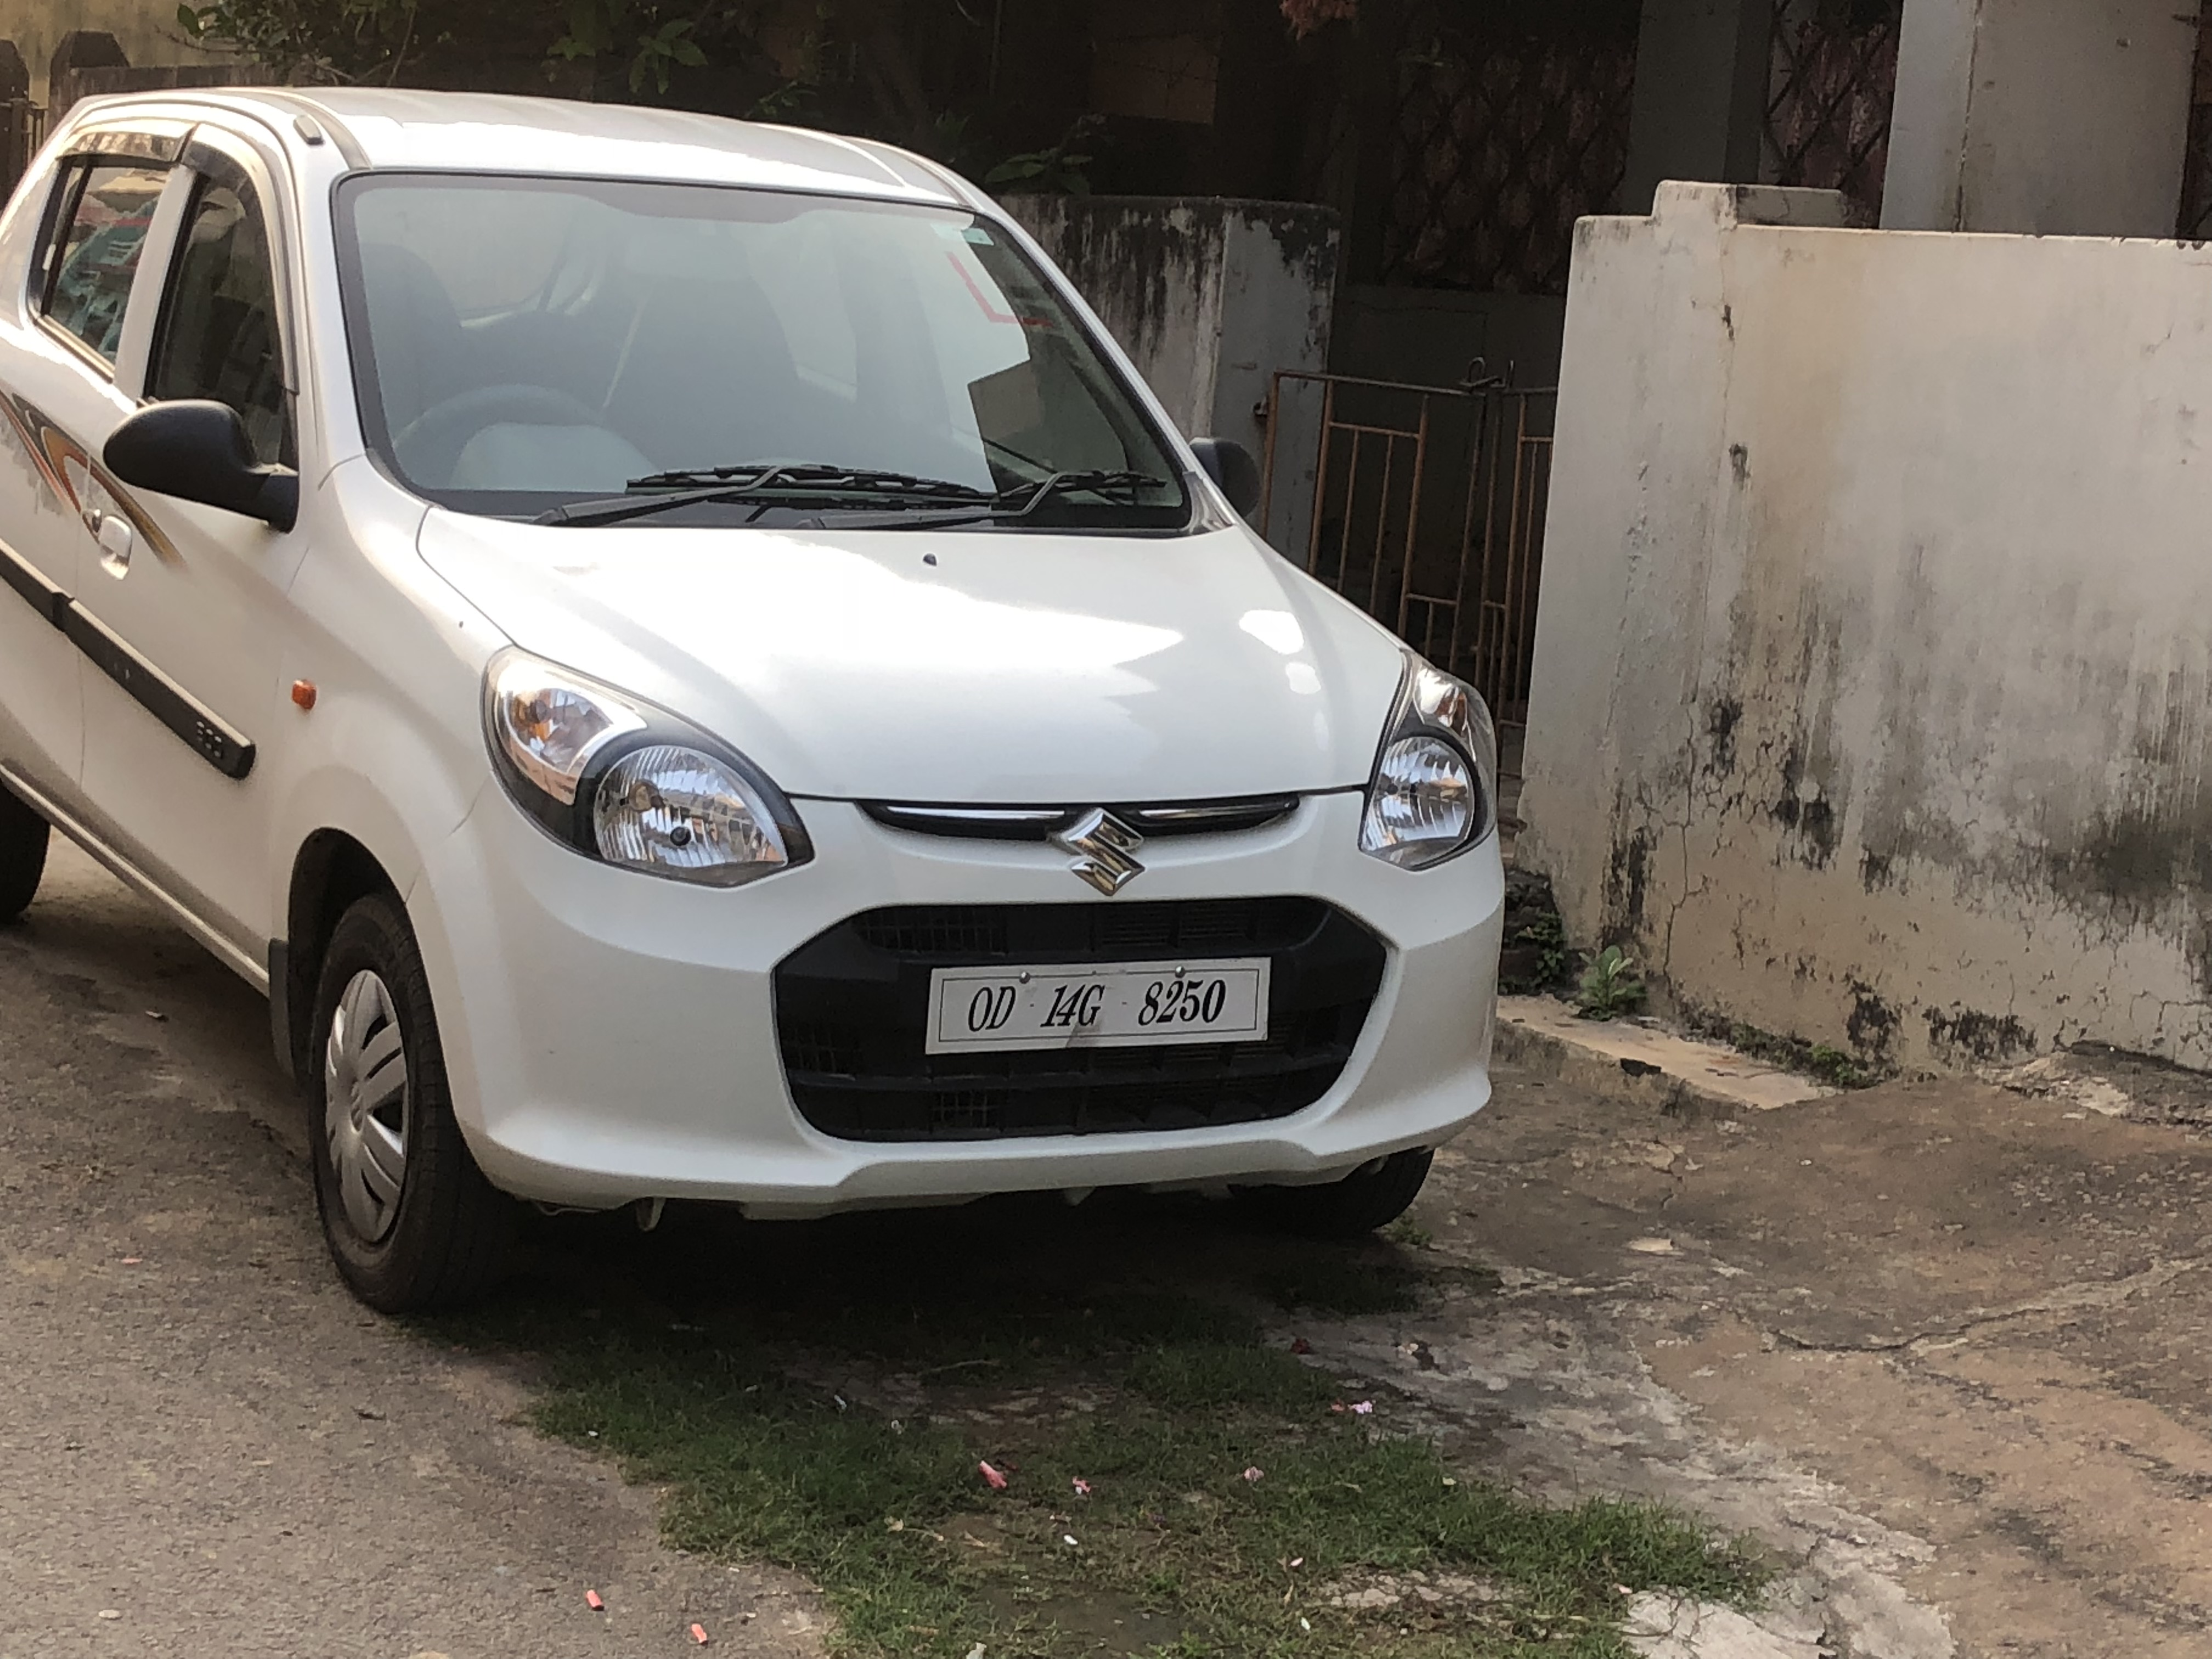licenseplate: (923, 956, 1282, 1045)
